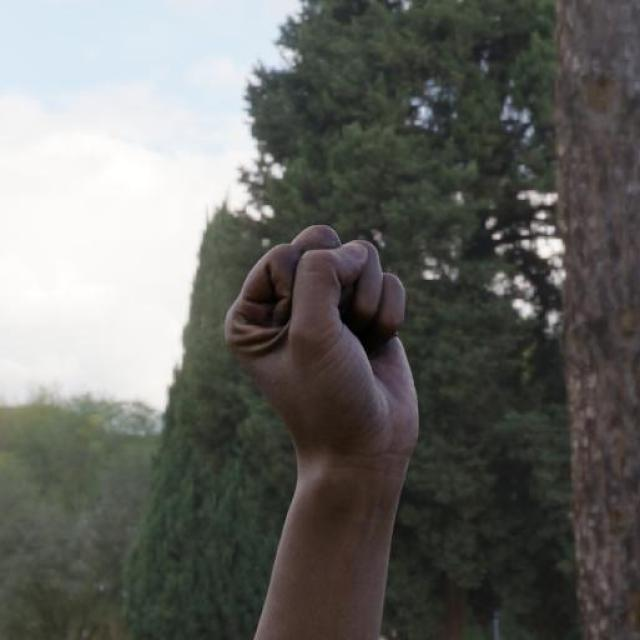S: (219, 217, 427, 473)
